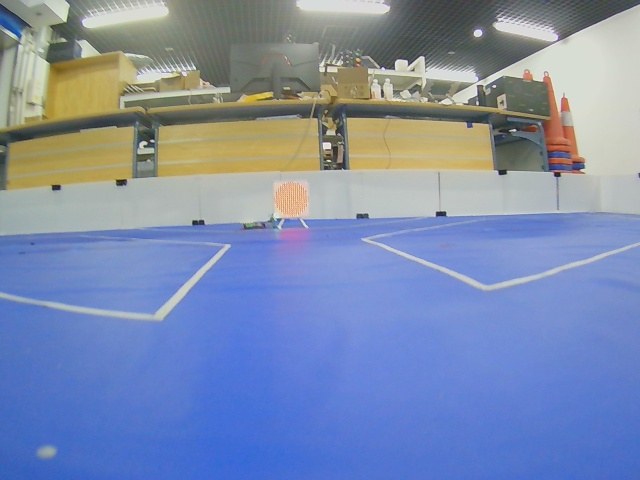red: (273, 181, 309, 218)
